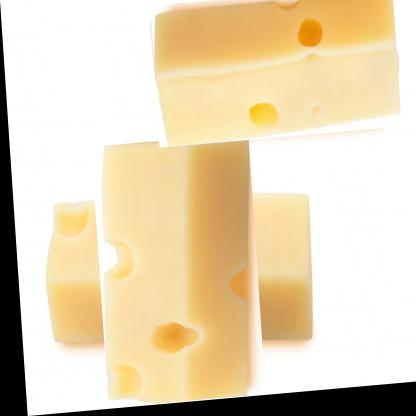cheese: (64, 161, 286, 388), (149, 0, 400, 152)
